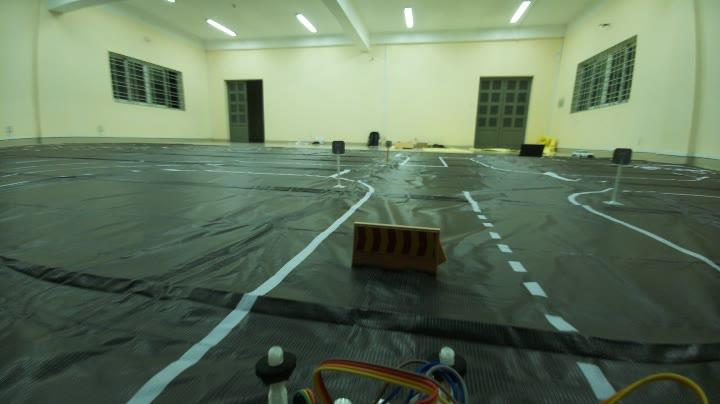roadblock: (342, 215, 468, 288)
